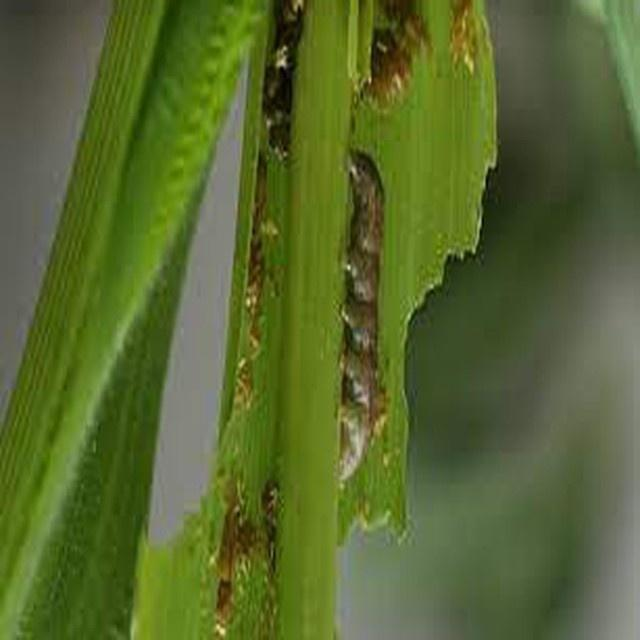gusano_cogollero: (330, 154, 410, 456)
